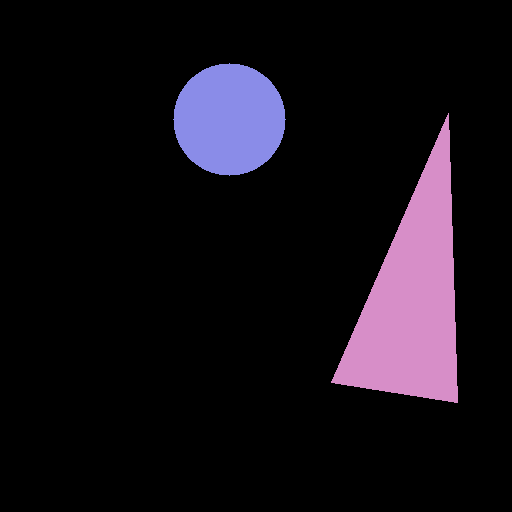circle: (173, 63, 285, 175)
triangle: (331, 113, 457, 402)
